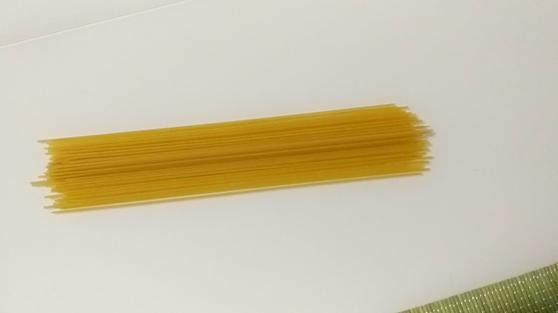spaghetti: (31, 94, 442, 220)
